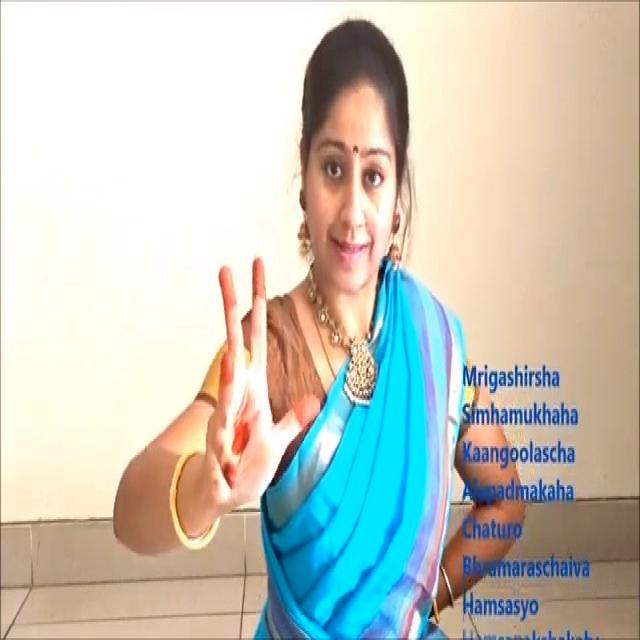Alapadma: (199, 239, 321, 526)
lady: (281, 8, 422, 279)
text: (454, 339, 602, 640)
